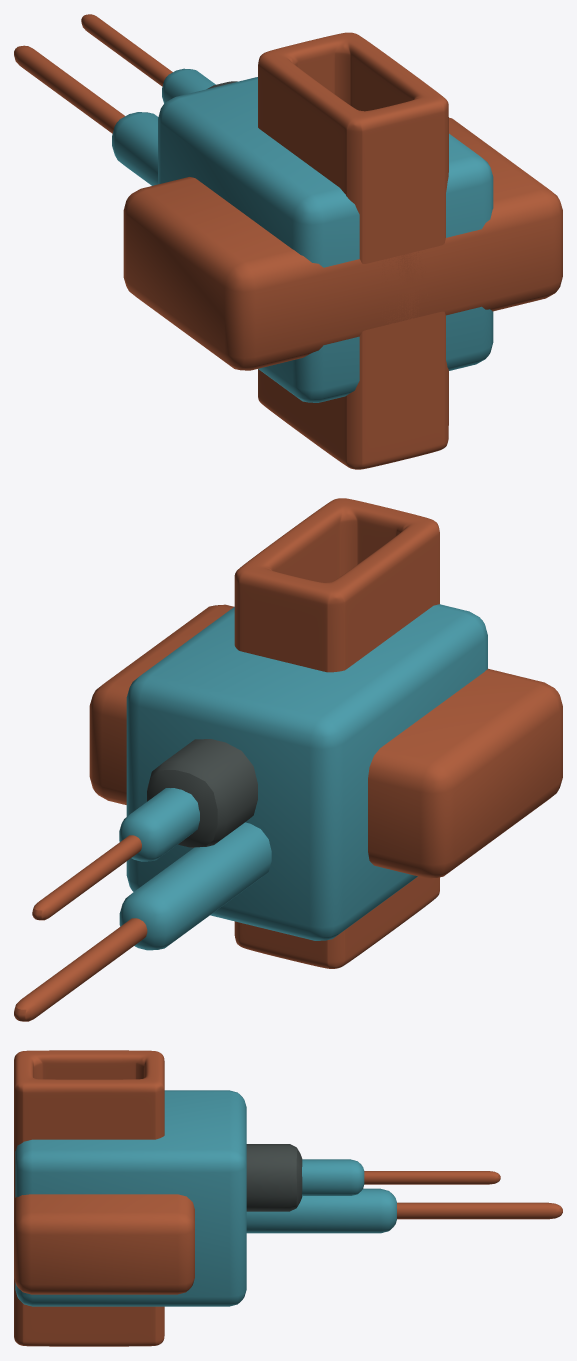
File: Building_Generic.fbx
The picture shows the model from 3 angles, top to bottom: view 1: azimuth 30°, elevation 25°; view 2: azimuth 150°, elevation 25°; view 3: azimuth 270°, elevation 25°; orthographic projection. The views are drawn at different scales.
Parts seen in each view (by area): view 1: Building_Generic; view 2: Building_Generic; view 3: Building_Generic.
Boxes of the visible parts, left/top/right/bottom form: Building_Generic: left=14, top=14, right=562, bottom=469; Building_Generic: left=14, top=498, right=562, bottom=1021; Building_Generic: left=14, top=1050, right=562, bottom=1346.
Size of the model in its own units: 0.6326 by 0.6324 by 1.2.
